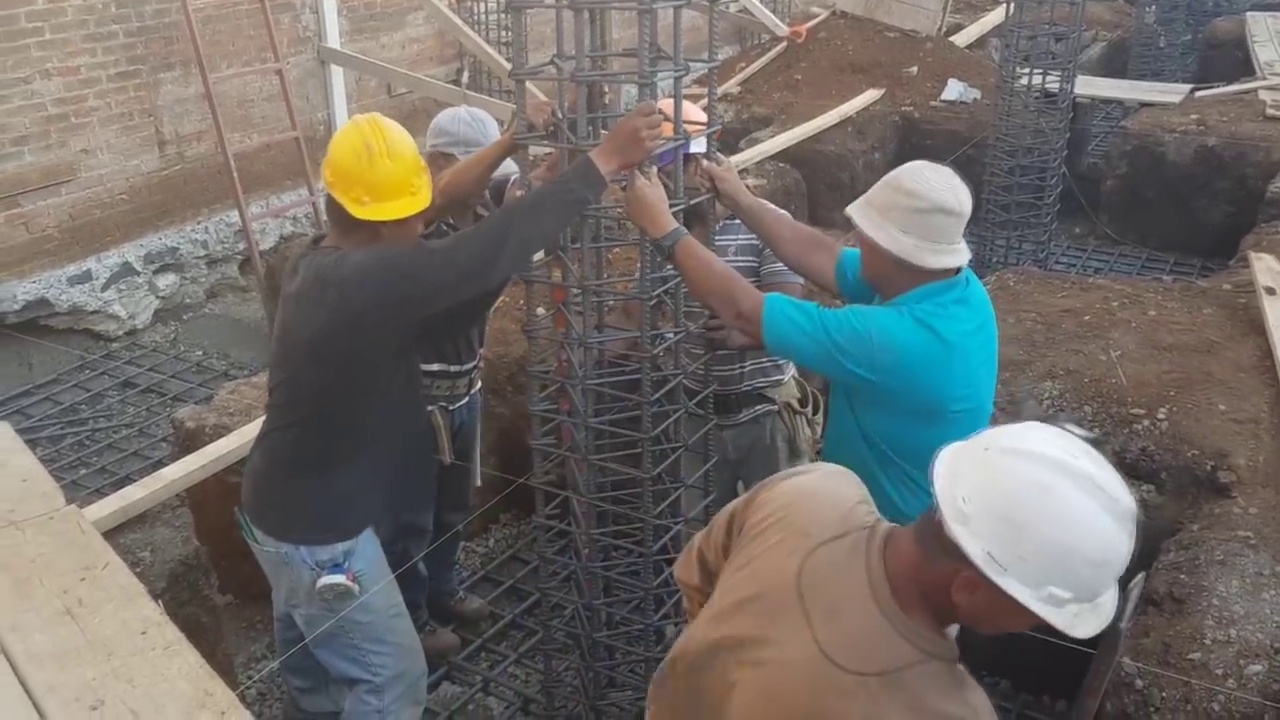helmet: (931, 423, 1132, 639), (320, 110, 435, 230), (655, 95, 718, 144)
helmet-off: (847, 153, 977, 297), (423, 98, 502, 222)
helmet-on: (870, 414, 1138, 654), (303, 102, 434, 258), (649, 94, 738, 222)
person: (240, 96, 666, 718), (646, 418, 1132, 720), (631, 152, 999, 532), (393, 99, 573, 668), (642, 89, 828, 532)
